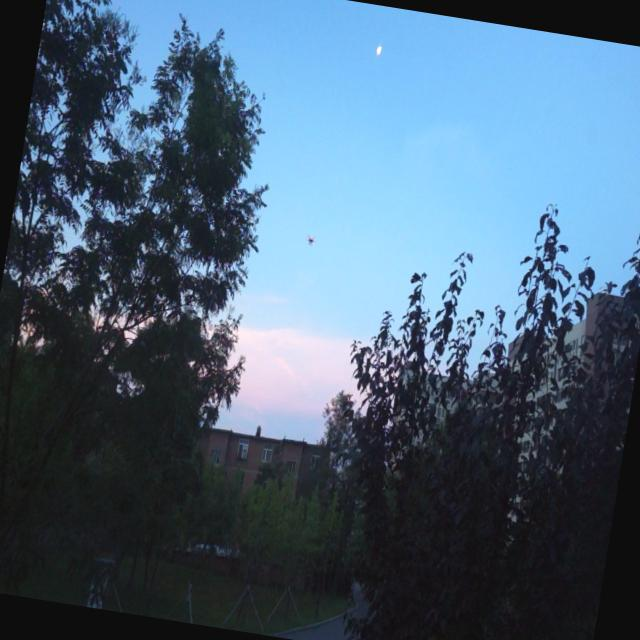drone: (303, 227, 319, 250)
